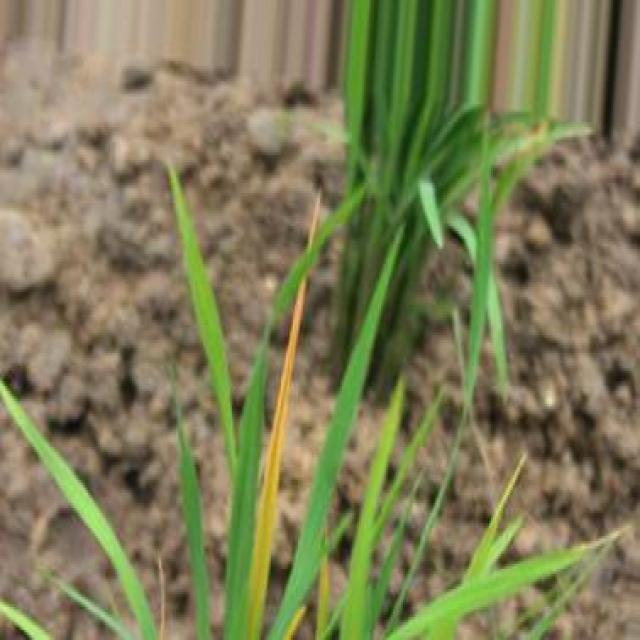Rice Tungro: (248, 276, 306, 638), (316, 555, 330, 638)
